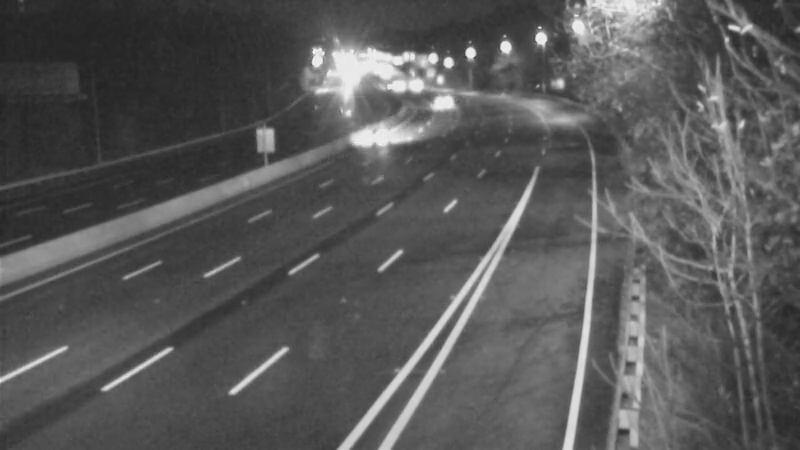vehicle: (421, 76, 471, 126), (334, 118, 384, 168)
